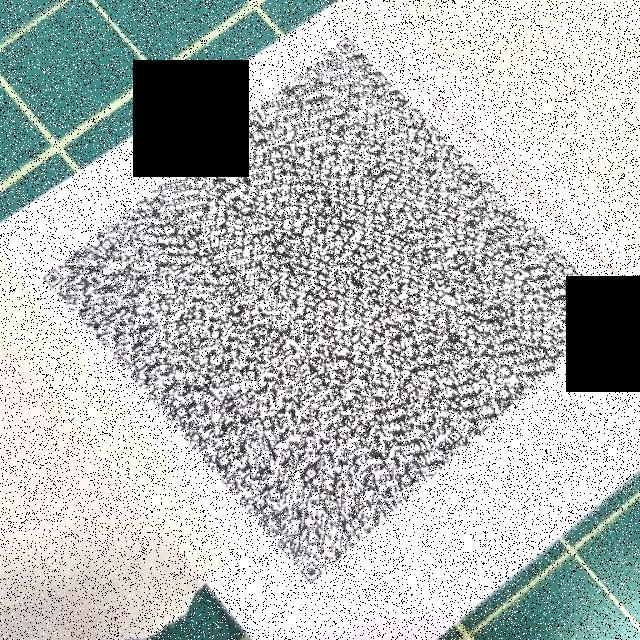QR_CODE: (28, 19, 632, 598)
